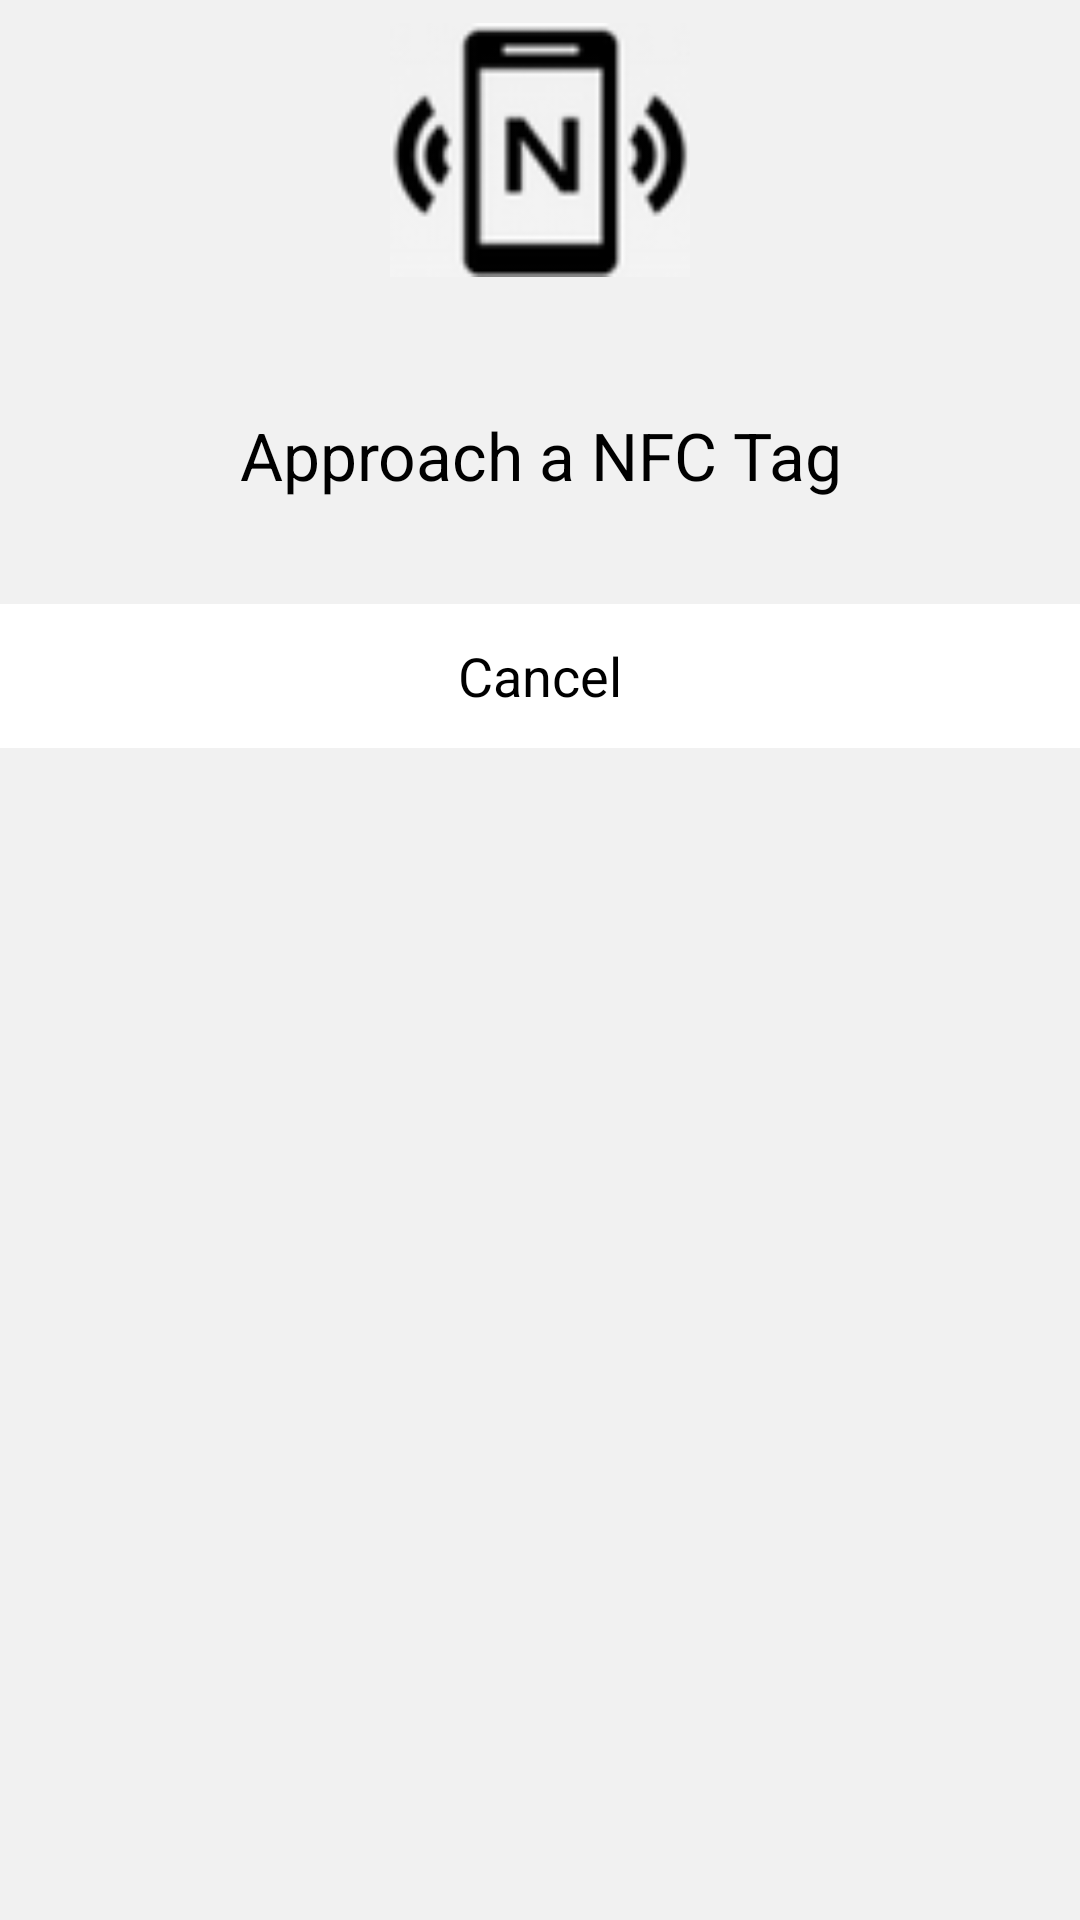

Screen size 1080w x 1920h. Icon name, then its center in pixels as (x,y):
nfc iconn: (540,152)
